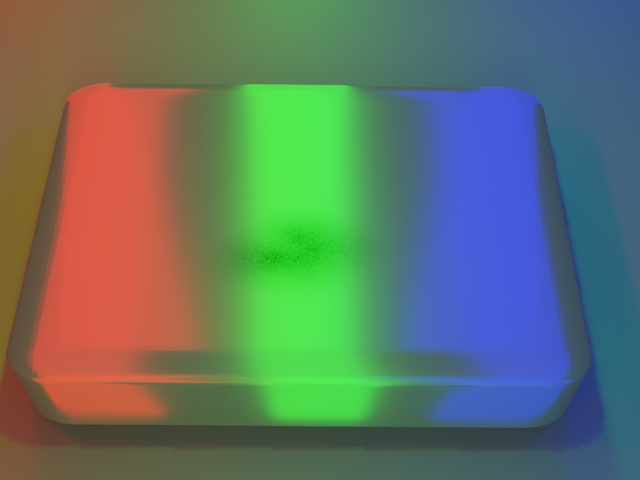stain: (169, 189, 413, 334)
